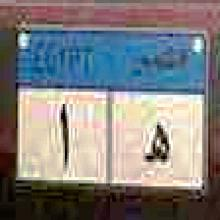1: (54, 100, 76, 171)
haa: (138, 118, 171, 173)
